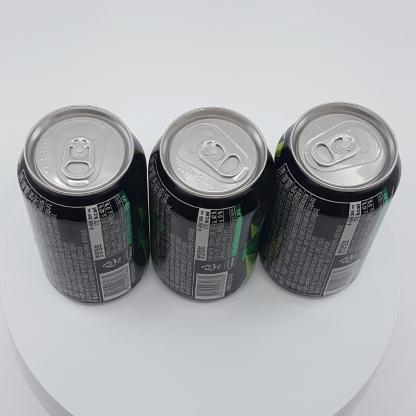------355ML: (258, 102, 401, 297), (17, 105, 150, 304), (148, 106, 275, 302)
